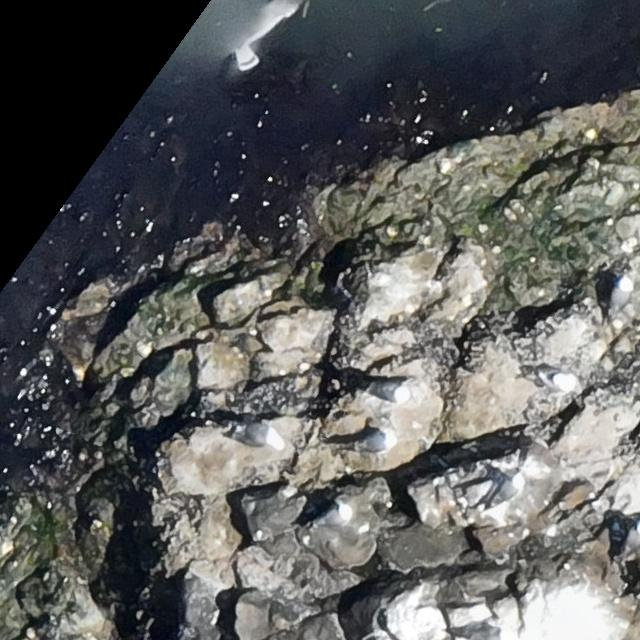umineko: (234, 420, 286, 451), (492, 473, 526, 511), (316, 506, 356, 528), (539, 367, 574, 390), (360, 434, 392, 452), (613, 280, 630, 310)
